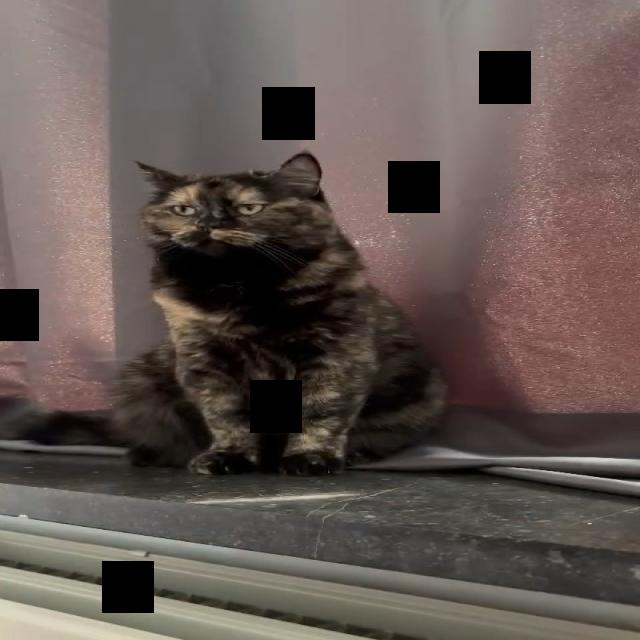authorized: (107, 150, 449, 477)
